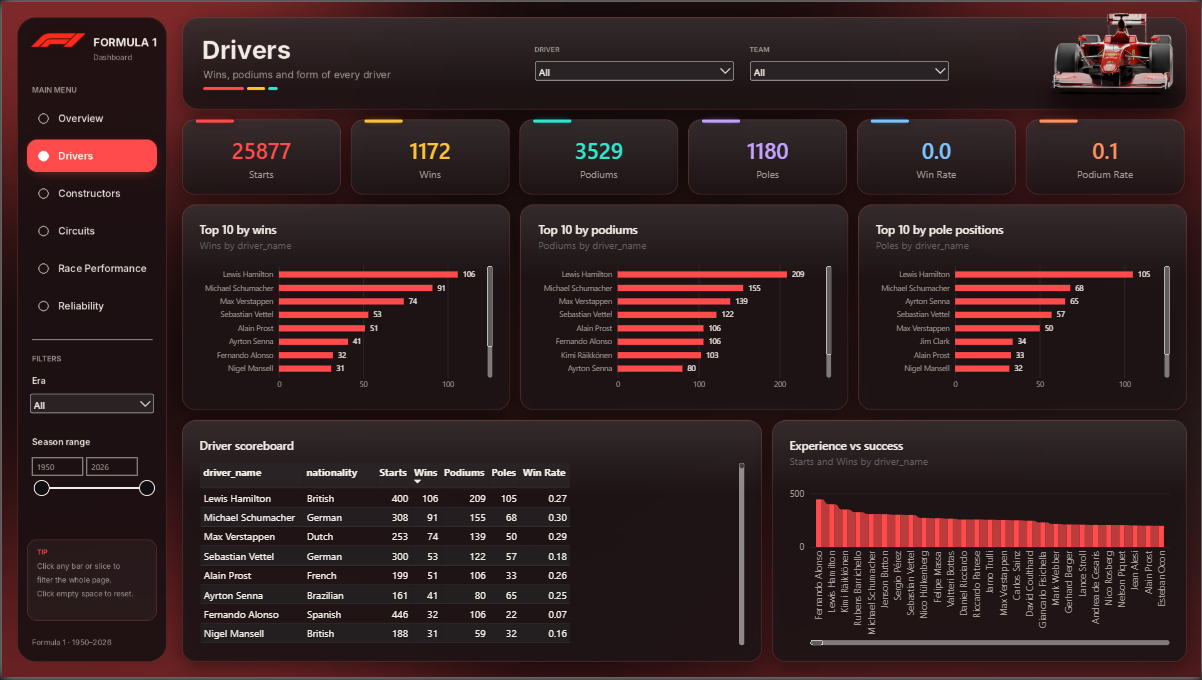

Layout of this report page (visuals, bound fields, positions):
{"tool":"powerbi","page":{"name":"Drivers","canvas":[1920,1080],"ordinal":1},"visuals":[{"type":"actionButton","box":[40,160,208,52],"z":1000},{"type":"actionButton","box":[40,220,208,52],"z":2000},{"type":"actionButton","box":[40,280,208,52],"z":3000},{"type":"actionButton","box":[40,340,208,52],"z":4000},{"type":"actionButton","box":[40,400,208,52],"z":5000},{"type":"actionButton","box":[40,460,208,52],"z":6000},{"type":"slicer","fields":{"Values":["dim_race.era"]},"box":[40,622,208,44],"z":7000},{"type":"slicer","fields":{"Values":["dim_race.year"]},"box":[40,724,208,96],"z":8000},{"type":"slicer","fields":{"Values":["dim_driver.driver_name"]},"box":[848,90,328,40],"z":9000},{"type":"slicer","fields":{"Values":["dim_constructor.constructor_name"]},"box":[1192,90,328,40],"z":10000},{"type":"card","fields":{"Values":["_Measures.Starts"]},"box":[300,202,230,96],"z":11000},{"type":"card","fields":{"Values":["_Measures.Wins"]},"box":[570,202,230,96],"z":12000},{"type":"card","fields":{"Values":["_Measures.Podiums"]},"box":[840,202,230,96],"z":13000},{"type":"card","fields":{"Values":["_Measures.Poles"]},"box":[1110,202,230,96],"z":14000},{"type":"card","fields":{"Values":["_Measures.Win Rate"]},"box":[1380,202,230,96],"z":15000},{"type":"card","fields":{"Values":["_Measures.Podium Rate"]},"box":[1650,202,230,96],"z":16000},{"type":"clusteredBarChart","title":"Top 10 by wins","fields":{"Category":["dim_driver.driver_name"],"Y":["_Measures.Wins"]},"box":[300,336,501,305],"z":17000},{"type":"clusteredBarChart","title":"Top 10 by podiums","fields":{"Category":["dim_driver.driver_name"],"Y":["_Measures.Podiums"]},"box":[841,336,501,305],"z":18000},{"type":"clusteredBarChart","title":"Top 10 by pole positions","fields":{"Category":["dim_driver.driver_name"],"Y":["_Measures.Poles"]},"box":[1382,336,502,305],"z":19000},{"type":"tableEx","title":"Driver scoreboard","fields":{"Values":["dim_driver.driver_name","dim_driver.nationality","_Measures.Starts","_Measures.Wins","_Measures.Podiums","_Measures.Poles","_Measures.Win Rate"]},"box":[300,681,904,363],"z":20000},{"type":"scatterChart","title":"Experience vs success","fields":{"Details":["dim_driver.driver_name"],"X":["_Measures.Starts"],"Y":["_Measures.Wins"]},"box":[1244,681,640,363],"z":21000}]}

Visuals, with their boxes in screenshot pixels (x1, y1, x2, y2), scaled from the page's 1920x1080 canvas onto the 1202x680 screenshot:
actionButton: select_region(25, 101, 155, 133)
actionButton: select_region(25, 139, 155, 171)
actionButton: select_region(25, 176, 155, 209)
actionButton: select_region(25, 214, 155, 247)
actionButton: select_region(25, 252, 155, 285)
actionButton: select_region(25, 290, 155, 322)
slicer - dim_race.era: select_region(25, 392, 155, 419)
slicer - dim_race.year: select_region(25, 456, 155, 516)
slicer - dim_driver.driver_name: select_region(531, 57, 736, 82)
slicer - dim_constructor.constructor_name: select_region(746, 57, 952, 82)
card - _Measures.Starts: select_region(188, 127, 332, 188)
card - _Measures.Wins: select_region(357, 127, 501, 188)
card - _Measures.Podiums: select_region(526, 127, 670, 188)
card - _Measures.Poles: select_region(695, 127, 839, 188)
card - _Measures.Win Rate: select_region(864, 127, 1008, 188)
card - _Measures.Podium Rate: select_region(1033, 127, 1177, 188)
"Top 10 by wins" clusteredBarChart: select_region(188, 212, 501, 404)
"Top 10 by podiums" clusteredBarChart: select_region(527, 212, 840, 404)
"Top 10 by pole positions" clusteredBarChart: select_region(865, 212, 1179, 404)
"Driver scoreboard" tableEx: select_region(188, 429, 754, 657)
"Experience vs success" scatterChart: select_region(779, 429, 1179, 657)
